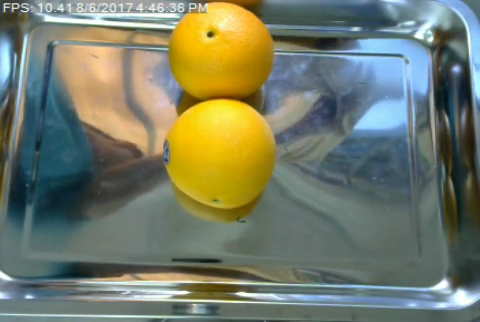Orange: (162, 99, 276, 209), (169, 2, 275, 102)
